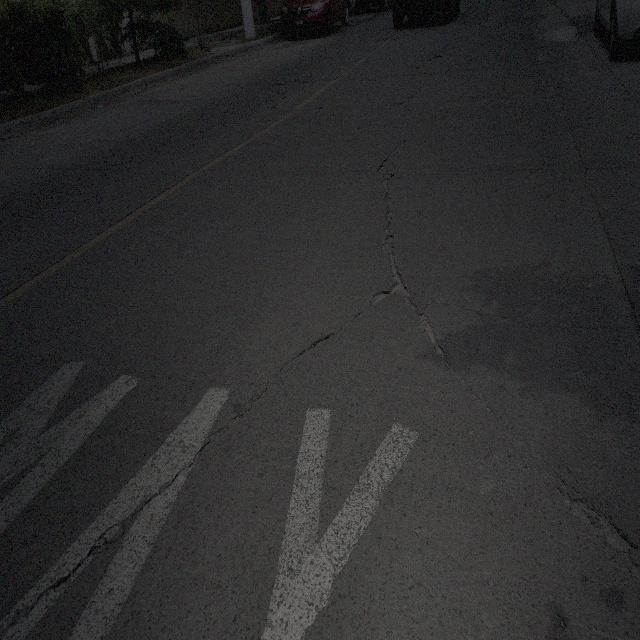pothole: (574, 492, 631, 566), (372, 245, 409, 297), (420, 310, 447, 362), (50, 572, 70, 595), (380, 173, 392, 190), (385, 210, 393, 226), (384, 192, 392, 204)
